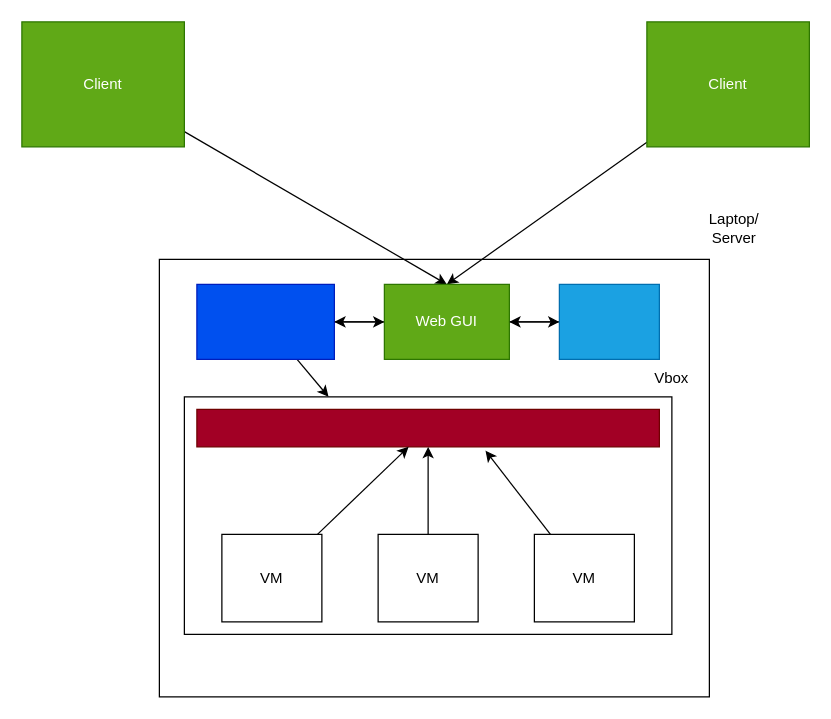
Image size: 831x719. Some labels were removed from this diagram. Here are the shapes that lost their labels. From the top down, the box of each, then its label:
(196, 283, 334, 359): Virtual Box API Endpoints
(558, 283, 659, 359): Pocketbase
(196, 408, 659, 447): Open WRT
